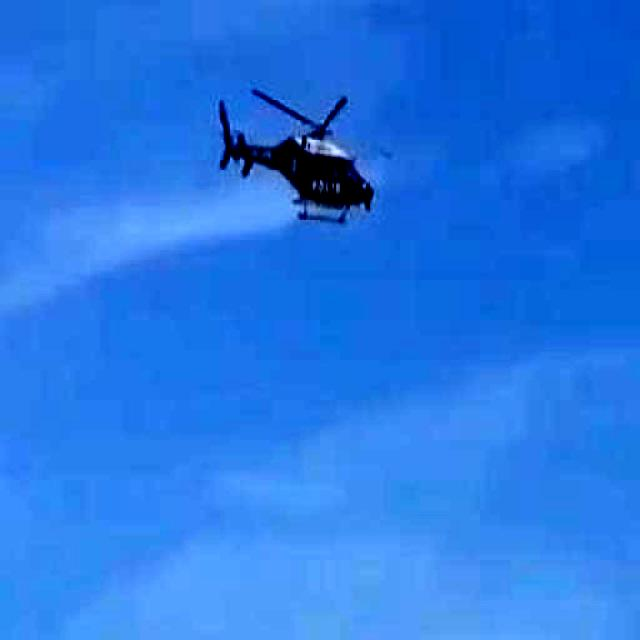drone: (192, 32, 401, 295)
